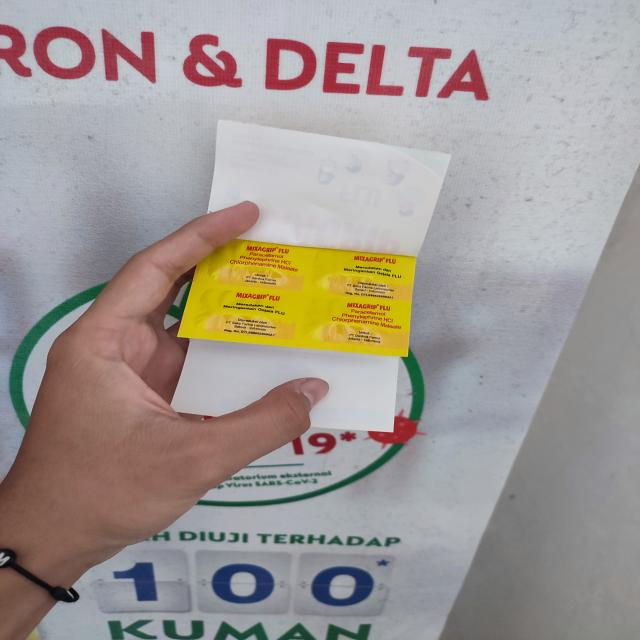B3: (171, 119, 457, 432)
